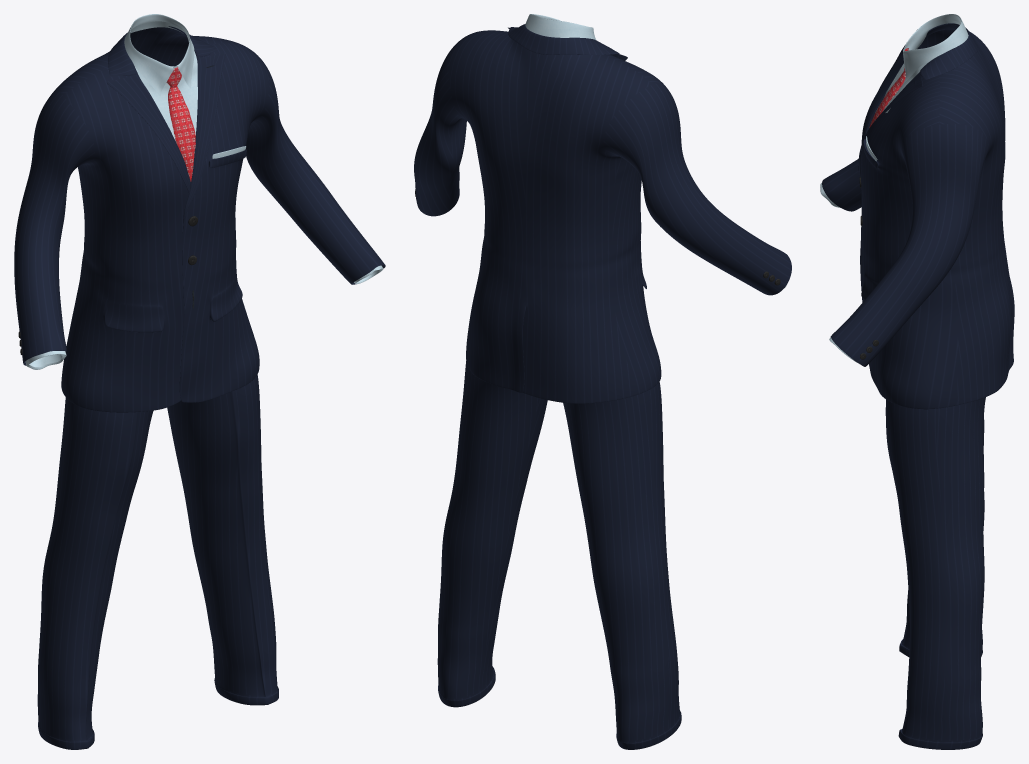
3 renders of one model, left to right at view 1: azimuth 30°, elevation 25°; view 2: azimuth 150°, elevation 25°; view 3: azimuth 270°, elevation 25°, orthographic. The views are drawn at different scales.
Parts seen in each view (by area): view 1: fabric_jacket, fabric_trousers, shirt, tie; view 2: fabric_jacket, fabric_trousers, shirt; view 3: fabric_jacket, fabric_trousers, shirt, tie.
Part boxes in pixels (box(x1,y1,x2,y2)): fabric_jacket: box(14, 26, 385, 412); fabric_trousers: box(37, 374, 278, 749); shirt: box(124, 14, 197, 140); tie: box(166, 67, 195, 181); fabric_jacket: box(414, 24, 791, 403); fabric_trousers: box(437, 308, 681, 749); shirt: box(525, 14, 595, 39); fabric_jacket: box(822, 23, 1014, 409); fabric_trousers: box(885, 397, 985, 749); shirt: box(875, 14, 968, 112); tie: box(869, 48, 908, 127).
Size of the model in its own units: 0.8124 by 1.49 by 0.3866.
Materials: 4 (4 with a texture image).
